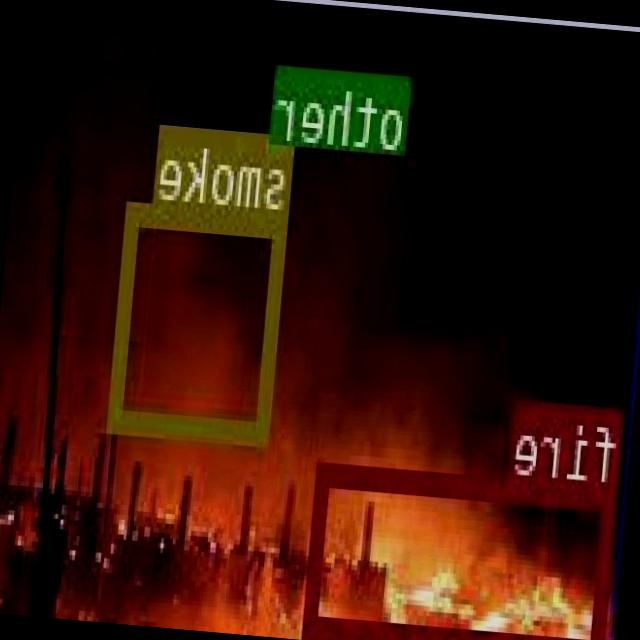fire: (307, 461, 620, 640)
smoke: (110, 197, 290, 440)
